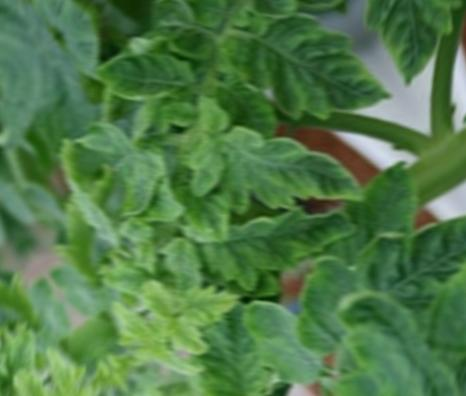Tomato leaf mosaic virus: (187, 67, 373, 261), (218, 0, 399, 167), (194, 169, 357, 315), (157, 290, 309, 396), (364, 192, 466, 322), (89, 21, 205, 133), (232, 282, 339, 396), (158, 161, 250, 263), (94, 135, 187, 228), (183, 0, 262, 14)
